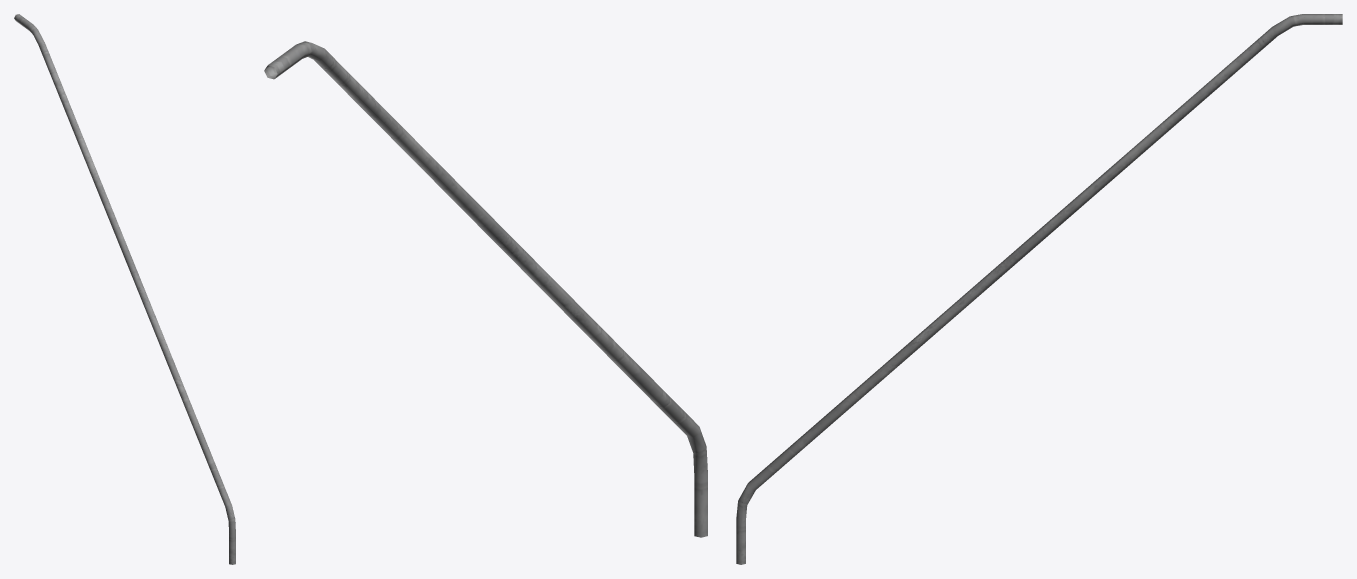
File: MB_Tube_A_Angle_01.fbx
3 views of the same model, side by side, from view 1: azimuth 30°, elevation 25°; view 2: azimuth 150°, elevation 25°; view 3: azimuth 270°, elevation 25° (orthographic). The views are drawn at different scales.
Parts seen in each view (by area): view 1: MB_Tube_A_Angle_01; view 2: MB_Tube_A_Angle_01; view 3: MB_Tube_A_Angle_01.
Boxes of the visible parts, x1,y1,x2,y2 form: MB_Tube_A_Angle_01: (14,14,235,564); MB_Tube_A_Angle_01: (264,41,707,537); MB_Tube_A_Angle_01: (736,14,1342,564).
Size of the model in its own units: 3.68 by 202 by 202.
